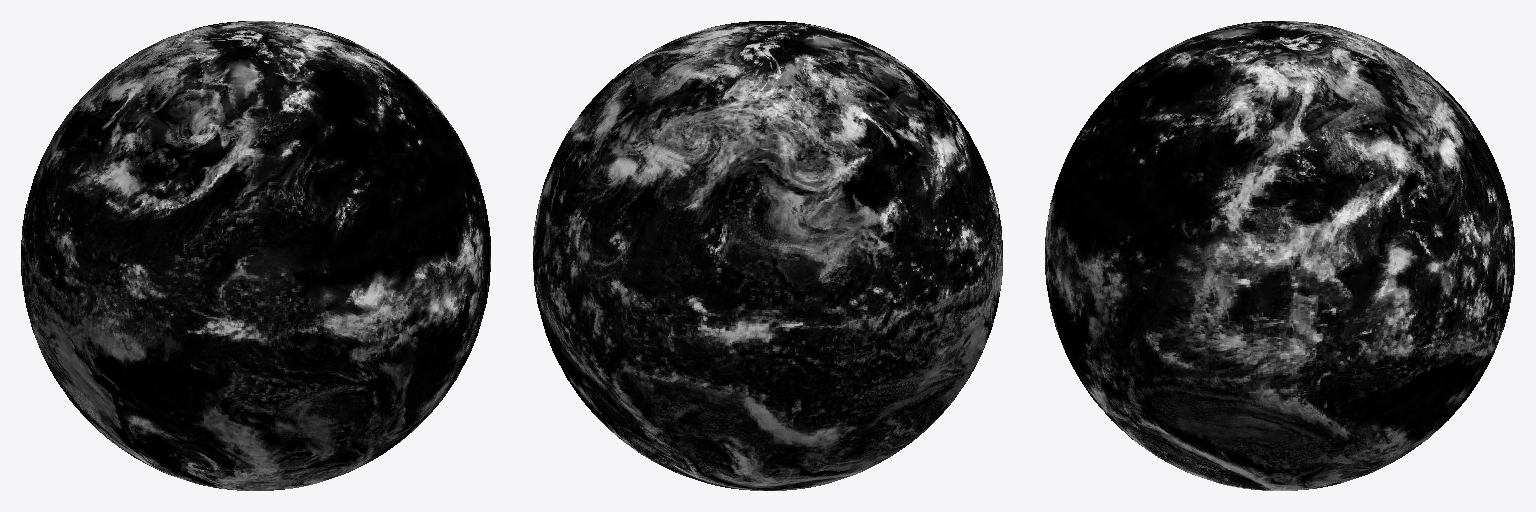
3 views of the same model, side by side, from view 1: azimuth 30°, elevation 25°; view 2: azimuth 150°, elevation 25°; view 3: azimuth 270°, elevation 25° (orthographic).
Parts seen in each view (by area): view 1: Sphere002; view 2: Sphere002; view 3: Sphere002.
Boxes of the visible parts, box(x1,y1,x2,y2) form: Sphere002: box(21, 21, 490, 490); Sphere002: box(533, 21, 1002, 490); Sphere002: box(1045, 21, 1514, 490).
Size of the model in its own units: 702 by 702 by 702.
2 materials, 2 textured.